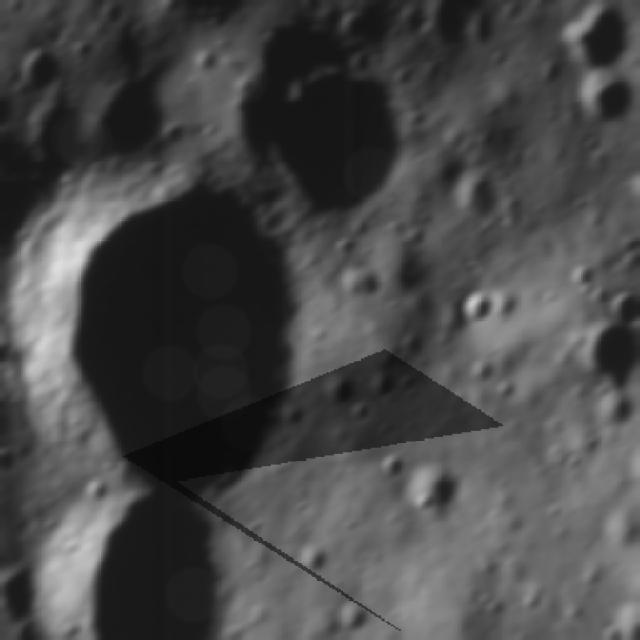crater: (5, 164, 321, 498), (36, 492, 255, 640), (253, 60, 432, 215), (75, 74, 168, 166), (9, 95, 100, 180), (561, 308, 640, 403), (550, 0, 638, 78), (400, 454, 466, 532), (572, 70, 640, 142), (0, 555, 51, 631), (448, 168, 503, 229), (12, 48, 66, 102), (453, 283, 502, 339), (336, 264, 389, 308), (286, 540, 337, 582), (597, 286, 640, 334), (329, 594, 374, 637), (363, 364, 403, 408), (601, 509, 640, 553), (566, 260, 605, 302), (187, 44, 224, 84), (322, 376, 361, 413), (369, 455, 414, 487), (342, 399, 378, 433), (91, 2, 129, 30), (611, 604, 640, 640), (618, 235, 640, 278), (626, 169, 640, 211), (296, 0, 325, 18)
